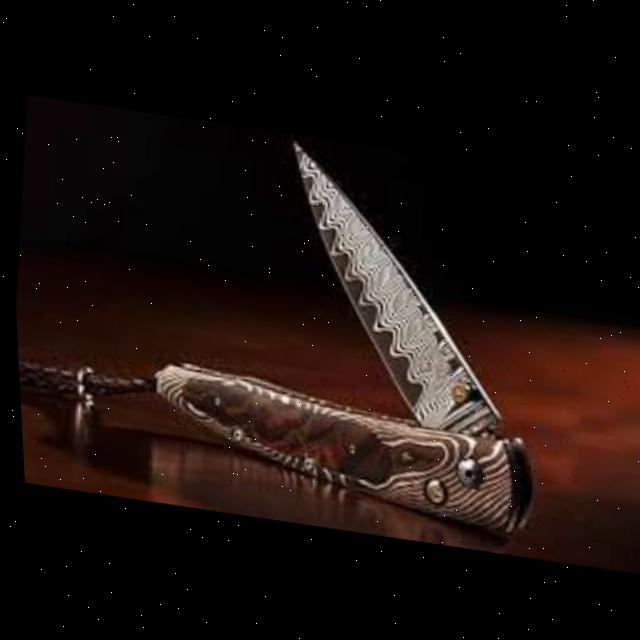knife: (4, 93, 561, 537), (259, 131, 526, 435)
